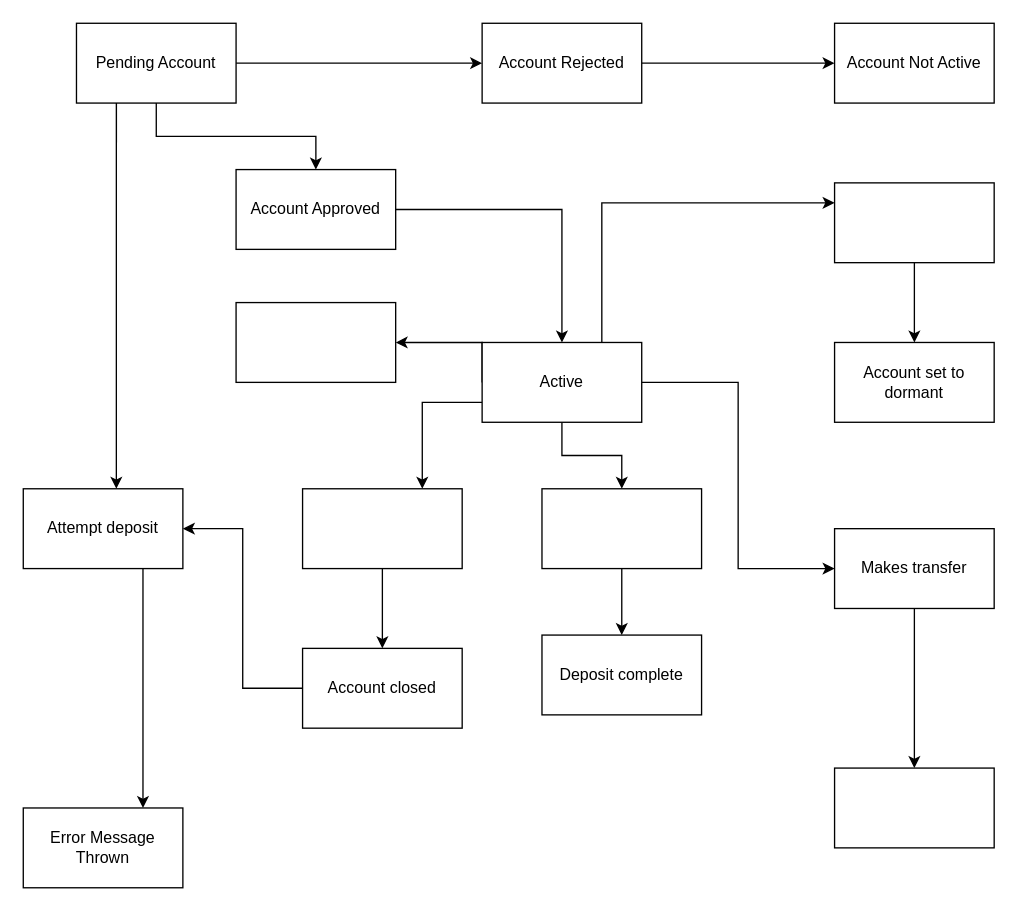
This 1017x911 diagram has some shape labels left out. The shapes that lost their labels are listed below. From the top down, each one's centre as x and y in pixels, then its label:
pixel 913 222: Mark as dormant
pixel 315 341: Attempt to reapprove
pixel 381 528: Mark as closed
pixel 621 528: Makes deposit
pixel 913 807: Transfer Complete
